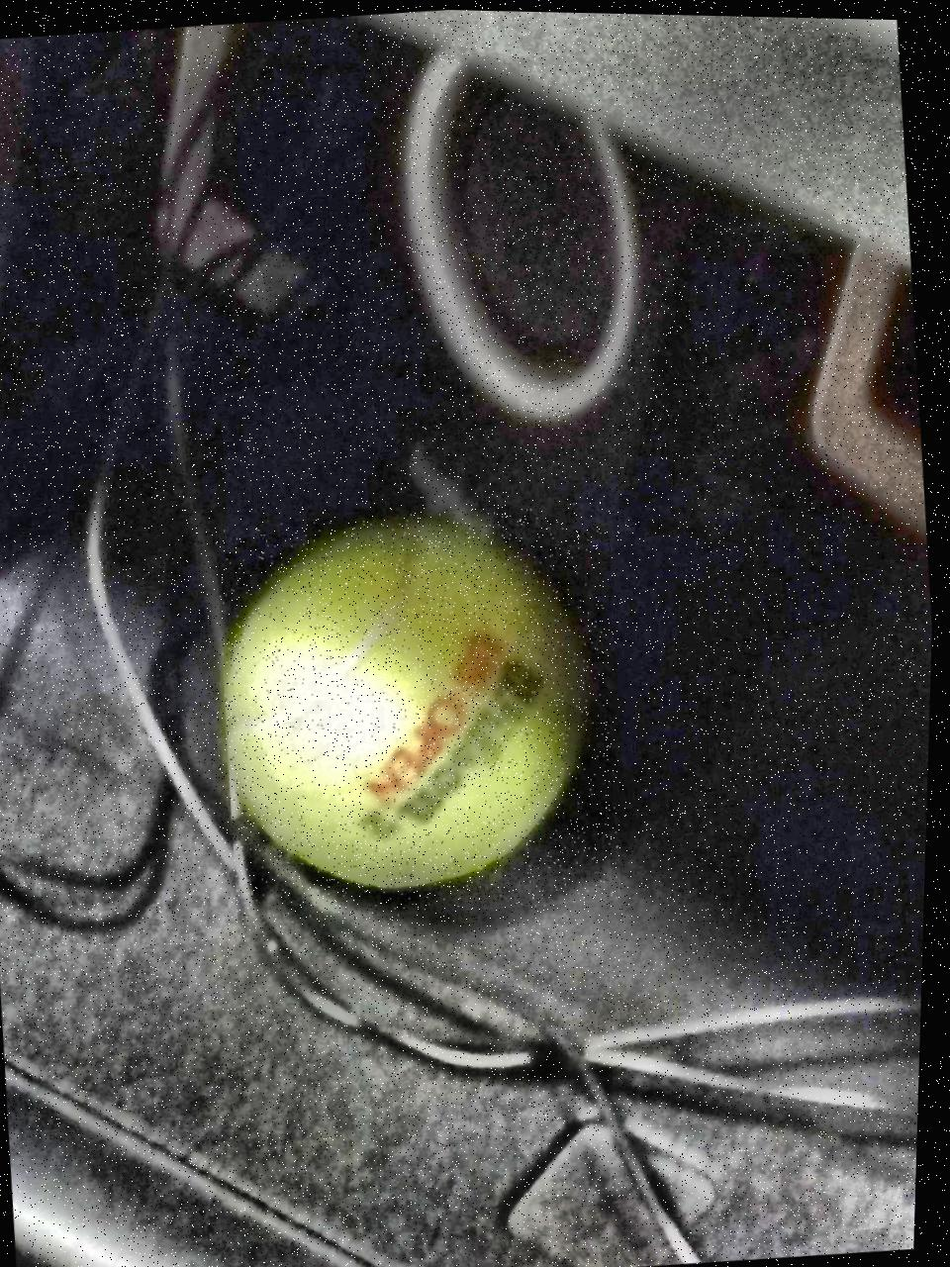Tennis_Ball: (209, 493, 639, 933)
